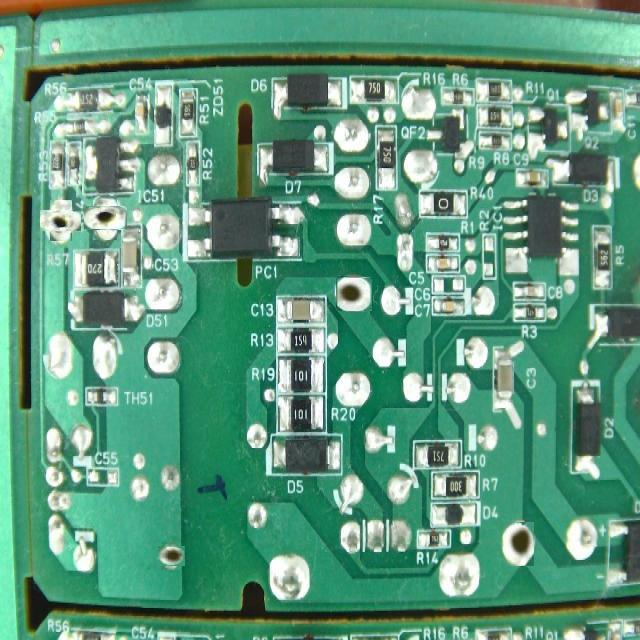damged: (336, 277, 372, 312), (506, 522, 534, 566), (89, 201, 122, 235), (45, 205, 77, 236), (159, 544, 183, 568)
